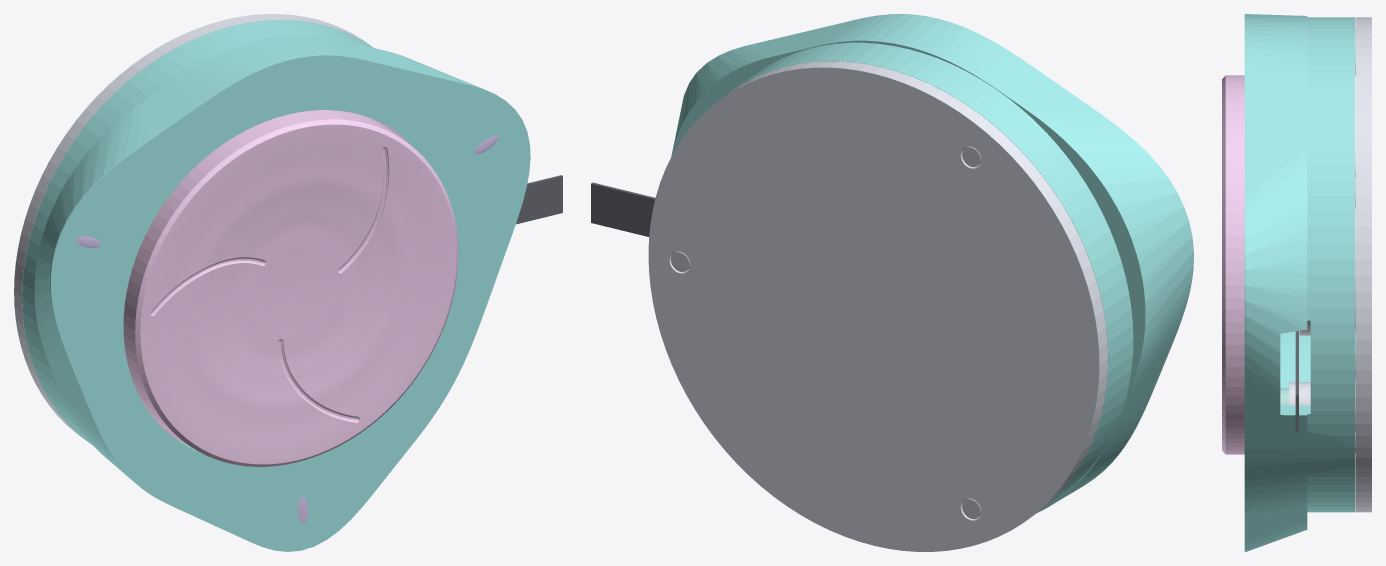
The model's file is orbital-bloom-02.glb.
The picture shows the model from 3 angles, left to right: view 1: azimuth 30°, elevation 25°; view 2: azimuth 150°, elevation 25°; view 3: azimuth 270°, elevation 25°; orthographic projection. The views are drawn at different scales.
Visible parts, largest first — view 1: 02_biomorphic_three_lobe_shell_printed, 03_three_spiral_touch_cap_printed, 01_bottom_sensor_tray_printed, 07_FSR_tail_to_outside_node; view 2: 01_bottom_sensor_tray_printed, 02_biomorphic_three_lobe_shell_printed, 07_FSR_tail_to_outside_node; view 3: 02_biomorphic_three_lobe_shell_printed, 01_bottom_sensor_tray_printed, 03_three_spiral_touch_cap_printed, 07_FSR_tail_to_outside_node.
Boxes of the visible parts, x1=… form: 02_biomorphic_three_lobe_shell_printed: x1=22, y1=20, x2=530, y2=551; 03_three_spiral_touch_cap_printed: x1=123, y1=110, x2=458, y2=466; 01_bottom_sensor_tray_printed: x1=14, y1=14, x2=370, y2=437; 07_FSR_tail_to_outside_node: x1=516, y1=175, x2=562, y2=224; 01_bottom_sensor_tray_printed: x1=648, y1=61, x2=1108, y2=551; 02_biomorphic_three_lobe_shell_printed: x1=671, y1=14, x2=1193, y2=512; 07_FSR_tail_to_outside_node: x1=591, y1=182, x2=655, y2=236; 02_biomorphic_three_lobe_shell_printed: x1=1244, y1=14, x2=1355, y2=551; 01_bottom_sensor_tray_printed: x1=1289, y1=17, x2=1371, y2=512; 03_three_spiral_touch_cap_printed: x1=1222, y1=75, x2=1244, y2=454; 07_FSR_tail_to_outside_node: x1=1295, y1=331, x2=1298, y2=432.
Size of the model in its own units: 0.0917 by 0.0805 by 0.0218.
